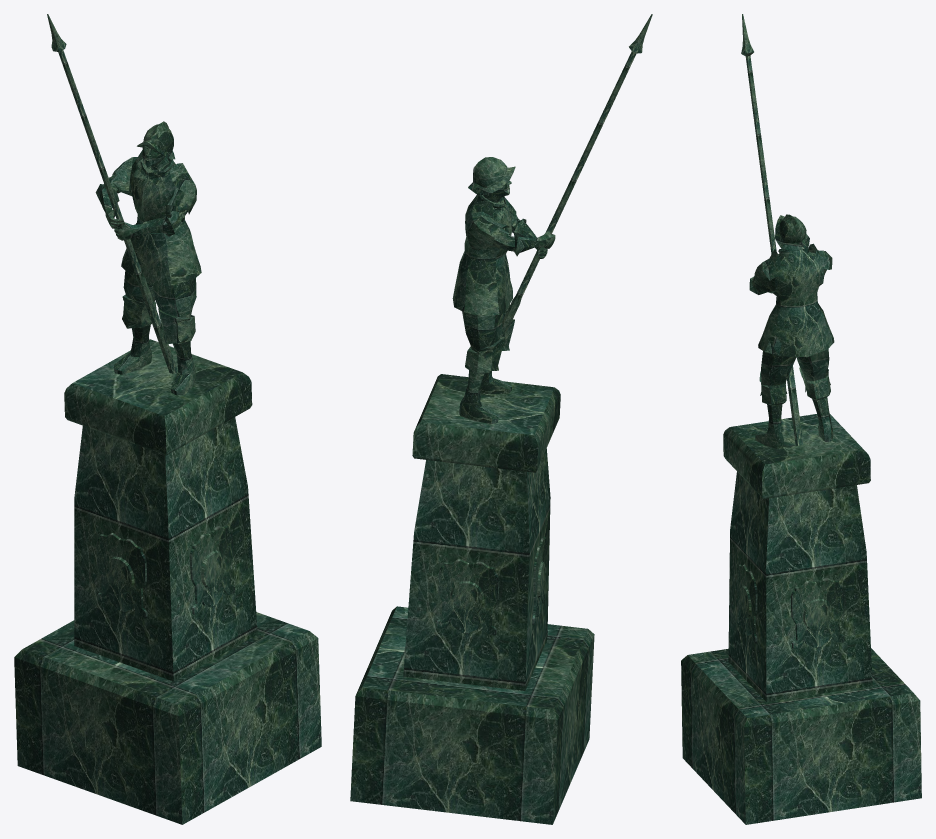
File: constuct_soldier.fbx
The picture shows the model from 3 angles, left to right: view 1: azimuth 30°, elevation 25°; view 2: azimuth 150°, elevation 25°; view 3: azimuth 270°, elevation 25°; orthographic projection. The views are drawn at different scales.
Visible parts, largest first — view 1: object; view 2: object; view 3: object.
Boxes of the visible parts, x1=… form: object: x1=14, y1=14, x2=321, y2=824; object: x1=350, y1=14, x2=652, y2=824; object: x1=681, y1=14, x2=921, y2=824.
Size of the model in its own units: 216 by 605 by 188.
